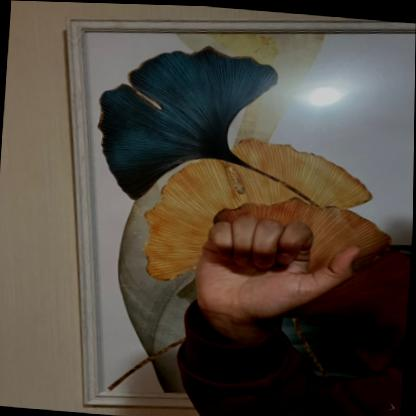E: (186, 205, 368, 326)
